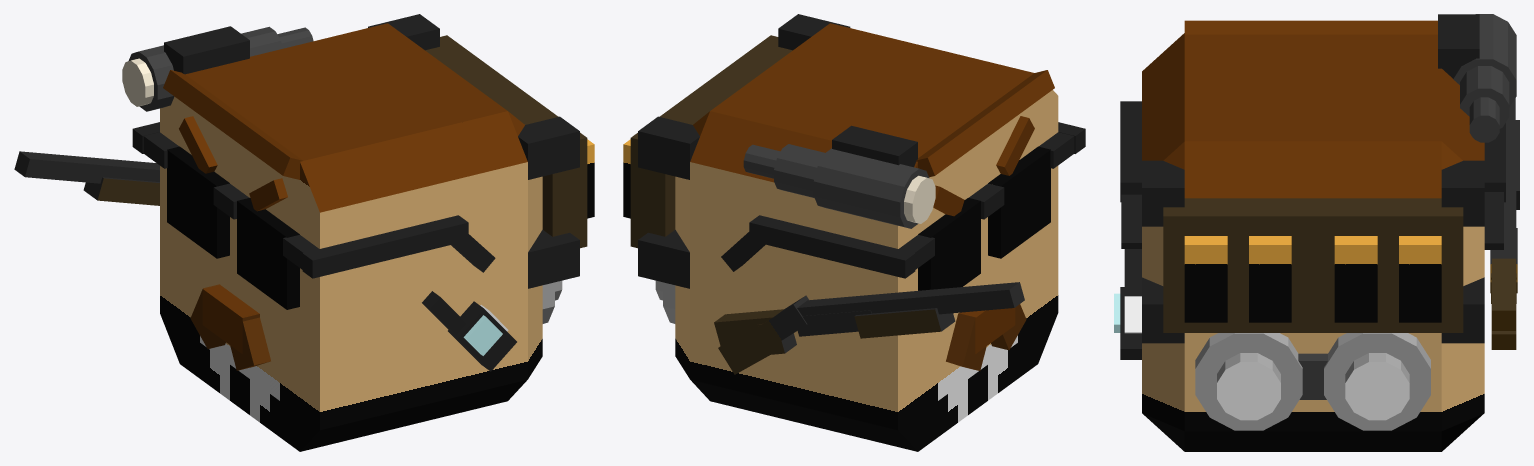
The model's file is playerShootingshotgun.gltf.
The picture shows the model from 3 angles, left to right: view 1: azimuth 30°, elevation 25°; view 2: azimuth 150°, elevation 25°; view 3: azimuth 270°, elevation 25°; orthographic projection. The views are drawn at different scales.
Parts seen in each view (by area): view 1: beveled_cuboid, cube (×2); view 2: beveled_cuboid, cube; view 3: beveled_cuboid, cube (×2).
Boxes of the visible parts, left/top/right/bottom form: beveled_cuboid: left=122, top=14, right=594, bottom=451; cube (×2): left=14, top=151, right=516, bottom=371; beveled_cuboid: left=623, top=14, right=1085, bottom=451; cube: left=714, top=282, right=1024, bottom=374; beveled_cuboid: left=1114, top=14, right=1516, bottom=451; cube (×2): left=1120, top=98, right=1519, bottom=359.
Bounding box in the file's own units: 1.53 × 1.06 × 1.18.
5 materials, 5 textured.
